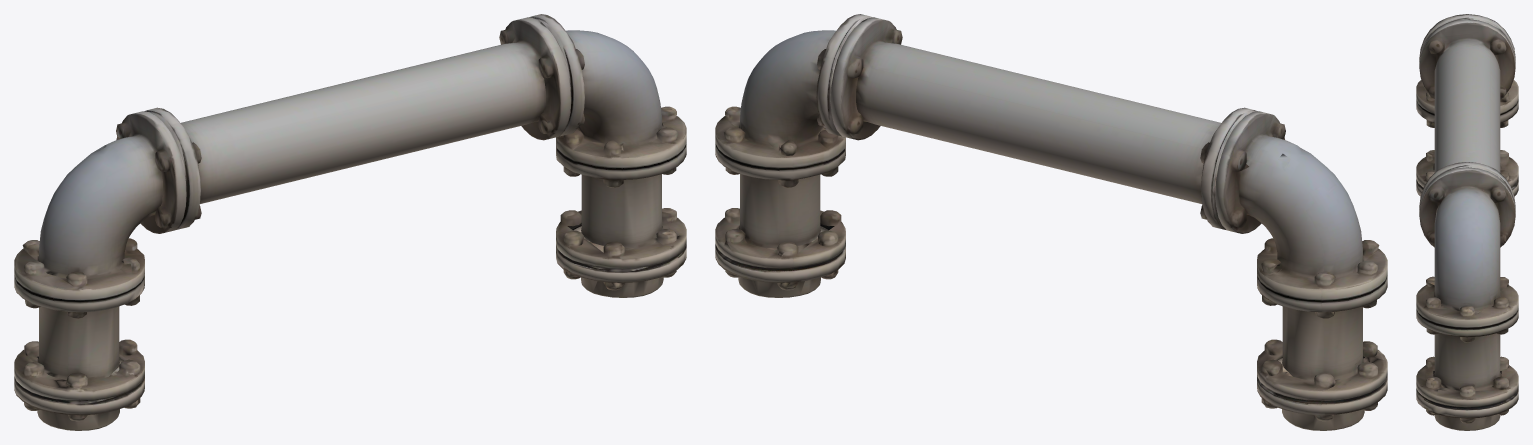
File: industrial_pipe_cb740c0c_v1.glb
The picture shows the model from 3 angles, left to right: view 1: azimuth 30°, elevation 25°; view 2: azimuth 150°, elevation 25°; view 3: azimuth 270°, elevation 25°; orthographic projection. The views are drawn at different scales.
Parts seen in each view (by area): view 1: material; view 2: material; view 3: material.
Boxes of the visible parts, <box> form: material: <box>14,14,686,430</box>; material: <box>715,14,1387,430</box>; material: <box>1416,14,1518,430</box>.
Bounding box in the file's own units: 1.9 × 0.7733 × 0.3262.
1 material, 1 textured.
